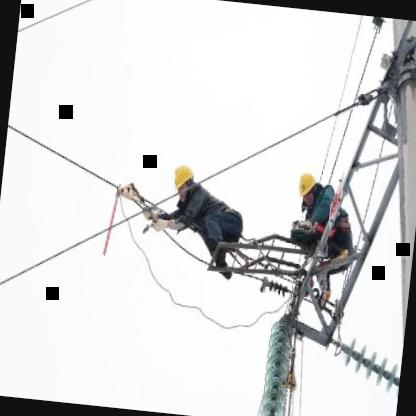helmet: (168, 159, 198, 200), (294, 165, 324, 206)
